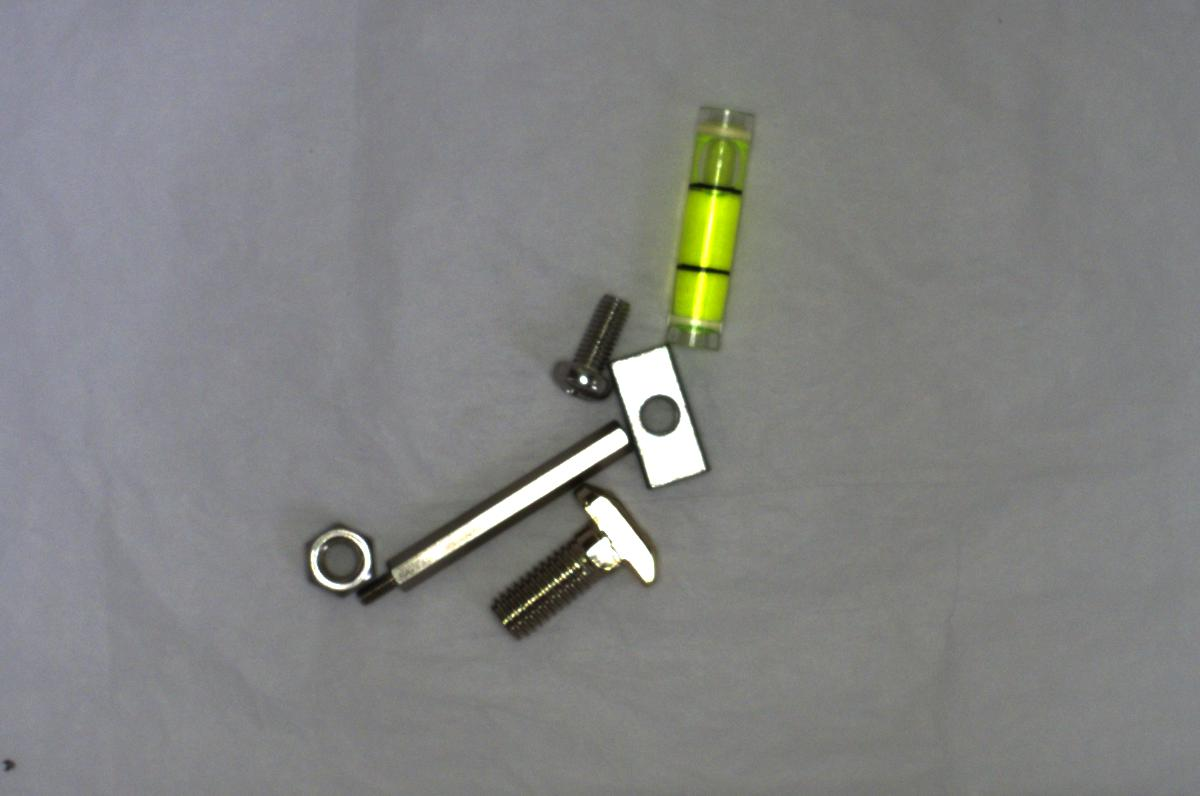Hexagon nut: (290, 519, 378, 598)
Hexagonal steel column: (351, 416, 631, 605)
Horizontal bubble: (660, 101, 753, 348)
Rectangular nut: (600, 343, 722, 495)
Round head screw: (541, 286, 630, 405)
T-shaped screw: (485, 485, 668, 638)
